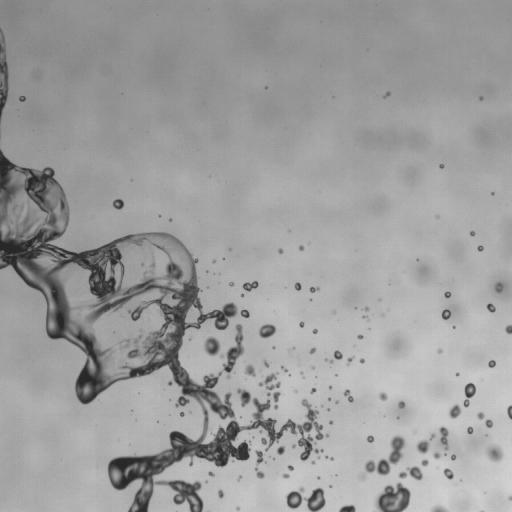droplet: (416, 433, 435, 454), (398, 465, 422, 480), (485, 444, 503, 463), (258, 324, 276, 338), (241, 280, 258, 292), (448, 404, 461, 418), (244, 364, 255, 377), (112, 198, 124, 209), (32, 162, 43, 173), (441, 298, 452, 309), (227, 314, 238, 325), (225, 324, 236, 335), (211, 328, 222, 339), (308, 335, 319, 346), (218, 342, 229, 353), (176, 349, 187, 360), (76, 350, 87, 361), (234, 356, 245, 367), (160, 364, 171, 375), (209, 364, 220, 375), (256, 367, 267, 378), (192, 374, 203, 385), (171, 384, 182, 395), (316, 386, 327, 397), (387, 394, 398, 405), (229, 395, 240, 406), (245, 402, 256, 413), (295, 413, 306, 424), (442, 416, 453, 427), (473, 419, 484, 430), (187, 430, 198, 441), (487, 435, 498, 446), (160, 439, 171, 450), (428, 440, 439, 451), (500, 444, 511, 455), (142, 445, 153, 456), (121, 446, 132, 457), (379, 448, 390, 459), (194, 456, 205, 467), (439, 456, 450, 467), (316, 457, 327, 468), (388, 462, 399, 473), (159, 469, 170, 480), (387, 475, 398, 486), (402, 476, 413, 487), (130, 478, 141, 489), (443, 468, 453, 479), (239, 308, 249, 318), (441, 309, 451, 319), (494, 282, 503, 293), (486, 302, 495, 313), (276, 445, 285, 455), (378, 392, 387, 401), (3, 99, 12, 108), (64, 195, 73, 204), (86, 241, 95, 250), (195, 278, 204, 287), (201, 304, 210, 313), (205, 317, 214, 326), (252, 361, 261, 370), (72, 366, 81, 375), (304, 368, 313, 377), (276, 372, 285, 381), (133, 374, 142, 383), (260, 410, 269, 419), (314, 414, 323, 423), (396, 428, 405, 437), (418, 432, 427, 441), (276, 437, 285, 446), (231, 438, 240, 447), (135, 448, 144, 457), (247, 450, 256, 459), (423, 450, 432, 459), (180, 455, 189, 464), (486, 458, 495, 467), (206, 460, 215, 469), (447, 461, 456, 470), (301, 489, 310, 498), (485, 419, 493, 428), (432, 451, 441, 459), (309, 286, 319, 293), (504, 324, 511, 334), (145, 505, 156, 511), (297, 505, 308, 511), (366, 435, 374, 443), (294, 282, 301, 291), (467, 426, 474, 435), (361, 305, 369, 312), (280, 365, 288, 372), (398, 400, 405, 408), (477, 411, 484, 419), (218, 489, 224, 498), (444, 291, 451, 298), (309, 347, 316, 354), (488, 360, 495, 367), (421, 459, 428, 466), (6, 65, 13, 72), (3, 151, 10, 158), (161, 213, 168, 220), (104, 236, 111, 243), (49, 238, 56, 245), (90, 242, 97, 249), (74, 246, 81, 253), (207, 263, 214, 270), (6, 264, 13, 271), (27, 286, 34, 293), (32, 288, 39, 295), (235, 304, 242, 311), (183, 328, 190, 335), (181, 334, 188, 341), (265, 335, 272, 342), (57, 337, 64, 344), (240, 339, 247, 346), (229, 340, 236, 347), (202, 351, 209, 358), (221, 356, 228, 363), (351, 358, 358, 365), (302, 365, 309, 372), (264, 368, 271, 375), (197, 379, 204, 386), (211, 385, 218, 392), (244, 385, 251, 392), (326, 389, 333, 396), (96, 392, 103, 399), (171, 395, 178, 402), (218, 395, 225, 402), (91, 397, 98, 404), (258, 397, 265, 404), (73, 398, 80, 405), (446, 401, 453, 408), (181, 404, 188, 411), (250, 405, 257, 412), (456, 413, 463, 420), (237, 419, 244, 426), (273, 424, 280, 431), (178, 426, 185, 433), (250, 427, 257, 434), (283, 428, 290, 435), (434, 431, 441, 438), (272, 441, 279, 448), (257, 443, 264, 450), (298, 445, 305, 452), (399, 447, 406, 454), (419, 452, 426, 459), (382, 453, 389, 460), (192, 455, 199, 462), (372, 457, 379, 464), (172, 460, 179, 467), (101, 462, 108, 469), (257, 462, 264, 469), (358, 463, 365, 470), (419, 465, 426, 472), (450, 466, 457, 473), (371, 469, 378, 476), (152, 473, 159, 480), (187, 477, 194, 484), (104, 480, 111, 487), (152, 484, 159, 491), (109, 486, 116, 493), (195, 488, 202, 495), (408, 495, 415, 502), (300, 499, 307, 506), (343, 499, 350, 506), (182, 500, 189, 507), (440, 501, 447, 508), (263, 359, 269, 367), (286, 465, 294, 471), (281, 472, 289, 478), (477, 245, 484, 251), (310, 387, 316, 394), (469, 230, 475, 236), (298, 245, 304, 251), (277, 248, 283, 254), (228, 281, 234, 287), (312, 328, 318, 334), (179, 411, 185, 417), (19, 96, 26, 101), (436, 348, 443, 353), (237, 474, 242, 481), (438, 164, 444, 169), (299, 321, 304, 327), (357, 334, 363, 339), (358, 358, 364, 363), (451, 454, 456, 460), (208, 471, 214, 476), (507, 318, 511, 325), (288, 507, 295, 511), (318, 507, 325, 511), (353, 507, 360, 511), (402, 507, 409, 511), (212, 258, 217, 263), (2, 30, 7, 35), (5, 58, 10, 63), (6, 77, 11, 82), (1, 107, 6, 112), (25, 163, 30, 168), (49, 163, 54, 168), (52, 174, 57, 179), (62, 187, 67, 192), (114, 194, 119, 199), (122, 199, 127, 204), (121, 205, 126, 210), (112, 207, 117, 212), (116, 208, 121, 213), (68, 213, 73, 218), (67, 219, 72, 224), (145, 227, 150, 232), (153, 227, 158, 232), (164, 228, 169, 233), (116, 233, 121, 238), (174, 233, 179, 238), (178, 236, 183, 241), (181, 239, 186, 244), (301, 241, 306, 246), (185, 244, 190, 249), (64, 245, 69, 250), (293, 245, 298, 250), (273, 249, 278, 254), (298, 250, 303, 255), (191, 253, 196, 258), (277, 253, 282, 258), (216, 256, 221, 261), (194, 262, 199, 267), (207, 271, 212, 276), (13, 272, 18, 277), (17, 276, 22, 281), (495, 277, 500, 282), (500, 279, 505, 284), (290, 281, 295, 286), (501, 286, 506, 291), (250, 287, 255, 292), (241, 288, 246, 293), (490, 288, 495, 293), (196, 291, 201, 296), (309, 292, 314, 297), (225, 298, 230, 303), (199, 299, 204, 304), (491, 300, 496, 305), (367, 303, 372, 308), (246, 306, 251, 311), (448, 306, 453, 311), (484, 308, 489, 313), (361, 310, 366, 315), (41, 311, 46, 316), (210, 317, 215, 322), (441, 318, 446, 323), (40, 319, 45, 324), (266, 319, 271, 324), (260, 320, 265, 325), (199, 322, 204, 327), (274, 325, 279, 330), (240, 329, 245, 334), (42, 331, 47, 336), (306, 345, 311, 350), (432, 346, 437, 351), (441, 346, 446, 351), (338, 347, 343, 352), (312, 351, 317, 356), (329, 354, 334, 359), (341, 355, 346, 360), (333, 358, 338, 363), (324, 361, 329, 366), (218, 365, 223, 370), (253, 368, 258, 373), (278, 368, 283, 373), (204, 370, 209, 375), (222, 370, 227, 375), (212, 371, 217, 376), (247, 374, 252, 379), (217, 376, 222, 381), (260, 376, 265, 381), (462, 380, 467, 385), (172, 381, 177, 386), (473, 381, 478, 386), (109, 383, 114, 388), (272, 387, 277, 392), (340, 387, 345, 392), (349, 391, 354, 396), (374, 392, 379, 397), (385, 392, 390, 397), (249, 393, 254, 398), (277, 394, 282, 399), (461, 394, 466, 399), (468, 396, 473, 401), (376, 397, 381, 402), (296, 399, 301, 404), (329, 399, 334, 404), (382, 399, 387, 404), (269, 400, 274, 405), (393, 401, 398, 406), (184, 402, 189, 407), (458, 403, 463, 408), (178, 405, 183, 410), (310, 405, 315, 410), (399, 407, 404, 412), (478, 407, 483, 412), (303, 408, 308, 413), (503, 412, 508, 417), (199, 413, 204, 418), (472, 413, 477, 418), (490, 417, 495, 422), (480, 418, 485, 423), (286, 426, 291, 431), (484, 426, 489, 431), (319, 428, 324, 433), (296, 433, 301, 438), (445, 434, 450, 439), (311, 443, 316, 448), (283, 447, 288, 452), (282, 450, 287, 455), (309, 450, 314, 455), (446, 452, 451, 457), (261, 454, 266, 459), (200, 457, 205, 462), (408, 462, 413, 467), (222, 464, 227, 469), (439, 466, 444, 471), (284, 468, 289, 473), (251, 470, 256, 475), (452, 473, 457, 478), (207, 475, 212, 480), (442, 475, 447, 480), (257, 477, 262, 482), (283, 477, 288, 482), (447, 478, 452, 483), (200, 482, 205, 487), (312, 484, 317, 489), (292, 486, 297, 491), (285, 488, 290, 493), (222, 489, 227, 494), (213, 491, 218, 496), (322, 492, 327, 497), (503, 493, 508, 498), (282, 497, 287, 502), (324, 499, 329, 504), (170, 501, 175, 506), (478, 96, 483, 100), (240, 293, 245, 297), (310, 365, 315, 369), (293, 389, 298, 393), (329, 420, 333, 425), (236, 506, 240, 511), (507, 490, 511, 495), (205, 270, 209, 274), (332, 310, 336, 314), (287, 373, 291, 377), (455, 372, 459, 376), (328, 385, 332, 389), (326, 407, 330, 411), (311, 460, 315, 464), (508, 332, 511, 337), (508, 400, 511, 405), (508, 500, 511, 505), (201, 508, 206, 511), (490, 192, 494, 195), (435, 215, 439, 218), (168, 218, 172, 221), (287, 229, 291, 232), (228, 247, 231, 251), (377, 298, 381, 301), (380, 313, 384, 316), (452, 325, 455, 329), (334, 373, 338, 376), (328, 397, 331, 401), (335, 400, 338, 404), (239, 415, 242, 419), (328, 484, 332, 487), (264, 86, 267, 89), (158, 214, 161, 217), (222, 257, 225, 260), (206, 286, 209, 289), (309, 298, 312, 301), (354, 306, 357, 309), (272, 346, 275, 349), (188, 410, 191, 413), (396, 416, 399, 419), (252, 436, 255, 439), (317, 476, 320, 479), (459, 478, 462, 481), (266, 83, 269, 86), (261, 85, 264, 88), (266, 87, 269, 90), (20, 92, 23, 95), (479, 92, 482, 95), (24, 94, 27, 97), (386, 95, 389, 98), (482, 95, 485, 98), (476, 98, 479, 101), (481, 99, 484, 102), (22, 100, 25, 103), (0, 118, 3, 121), (439, 160, 442, 163), (442, 161, 445, 164), (436, 162, 439, 165), (438, 167, 441, 170), (441, 167, 444, 170), (490, 188, 493, 191), (493, 192, 496, 195), (489, 194, 492, 197), (158, 211, 161, 214), (155, 215, 158, 218), (167, 215, 170, 218), (159, 216, 162, 219), (171, 218, 174, 221), (166, 220, 169, 223), (468, 228, 471, 231), (472, 228, 475, 231), (474, 233, 477, 236), (470, 235, 473, 238), (479, 242, 482, 245), (188, 249, 191, 252), (282, 249, 285, 252), (475, 249, 478, 252), (479, 250, 482, 253), (221, 254, 224, 257), (414, 255, 417, 258), (224, 256, 227, 259), (418, 257, 421, 260), (209, 258, 212, 261), (220, 259, 223, 262), (413, 259, 416, 262), (215, 271, 218, 274), (228, 278, 231, 281), (232, 279, 235, 282), (248, 280, 251, 283), (257, 282, 260, 285), (299, 282, 302, 285), (312, 284, 315, 287), (227, 285, 230, 288), (300, 285, 303, 288), (319, 286, 322, 289), (443, 289, 446, 292), (441, 293, 444, 296), (449, 295, 452, 298), (445, 297, 448, 300), (311, 298, 314, 301), (308, 300, 311, 303), (485, 301, 488, 304), (354, 303, 357, 306), (361, 305, 364, 308), (243, 306, 246, 309), (357, 306, 360, 309), (442, 306, 445, 309), (445, 306, 448, 309), (494, 308, 497, 311), (439, 310, 442, 313), (248, 312, 251, 315), (438, 314, 441, 317), (363, 317, 366, 320), (447, 317, 450, 320), (300, 318, 303, 321), (303, 323, 306, 326), (367, 324, 370, 327), (297, 325, 300, 328), (455, 325, 458, 328), (315, 326, 318, 329), (449, 326, 452, 329), (310, 327, 313, 330), (452, 328, 455, 331), (309, 330, 312, 333), (316, 331, 319, 334), (360, 332, 363, 335), (312, 333, 315, 336), (362, 335, 365, 338), (359, 338, 362, 341), (289, 345, 292, 348), (271, 348, 274, 351), (292, 349, 295, 352), (439, 352, 442, 355), (360, 355, 363, 358), (363, 357, 366, 360), (488, 357, 491, 360), (492, 357, 495, 360), (266, 360, 269, 363), (358, 362, 361, 365), (361, 362, 364, 365), (485, 362, 488, 365), (329, 363, 332, 366), (493, 365, 496, 368), (487, 366, 490, 369), (314, 367, 317, 370), (300, 368, 303, 371), (455, 369, 458, 372), (334, 370, 337, 373), (285, 371, 288, 374), (302, 372, 305, 375), (314, 372, 317, 375), (452, 372, 455, 375), (298, 374, 301, 377), (311, 375, 314, 378), (333, 375, 336, 378), (456, 375, 459, 378), (328, 382, 331, 385), (311, 384, 314, 387), (325, 385, 328, 388), (331, 385, 334, 388), (346, 386, 349, 389), (308, 387, 311, 390), (315, 387, 318, 390), (324, 397, 327, 400), (330, 397, 333, 400), (403, 400, 406, 403), (335, 403, 338, 406), (177, 414, 180, 417), (393, 414, 396, 417), (271, 416, 274, 419), (329, 417, 332, 420), (397, 418, 400, 421), (153, 419, 156, 422), (158, 419, 161, 422), (332, 420, 335, 423), (491, 424, 494, 427), (472, 427, 475, 430), (464, 429, 467, 432), (368, 432, 371, 435), (371, 433, 374, 436), (364, 434, 367, 437), (373, 436, 376, 439), (366, 441, 369, 444), (261, 450, 264, 453), (318, 451, 321, 454), (327, 454, 330, 457), (332, 455, 335, 458), (455, 456, 458, 459), (452, 459, 455, 462), (289, 462, 292, 465), (312, 463, 315, 466), (334, 470, 337, 473), (240, 472, 243, 475), (331, 472, 334, 475), (235, 475, 238, 478), (313, 475, 316, 478), (319, 475, 322, 478), (332, 475, 335, 478), (461, 477, 464, 480), (239, 478, 242, 481), (328, 481, 331, 484), (458, 481, 461, 484), (170, 498, 173, 501), (479, 507, 482, 510), (130, 179, 133, 181), (416, 258, 418, 261), (367, 328, 370, 330), (169, 398, 171, 401), (321, 404, 323, 407), (156, 420, 158, 423), (436, 466, 438, 469), (205, 480, 207, 483), (233, 509, 236, 511), (238, 509, 241, 511), (213, 273, 215, 275), (113, 331, 115, 333), (315, 376, 317, 378), (131, 409, 133, 411), (485, 434, 487, 436), (444, 453, 446, 455), (335, 474, 337, 476)
ligament: (357, 435, 407, 482), (254, 449, 266, 478), (463, 382, 476, 407), (438, 425, 448, 450), (343, 389, 353, 402), (338, 504, 355, 511), (430, 505, 449, 511), (346, 355, 355, 366), (324, 455, 334, 461), (382, 91, 390, 98), (507, 405, 511, 419), (300, 371, 305, 379), (268, 455, 275, 460), (507, 494, 511, 501), (188, 335, 192, 341), (479, 510, 484, 511), (207, 510, 210, 511)
